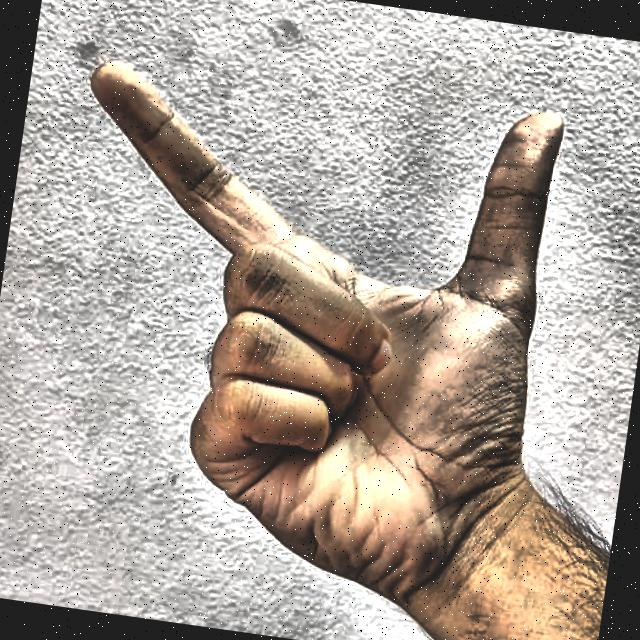ChandraBindu: (6, 0, 608, 632)
